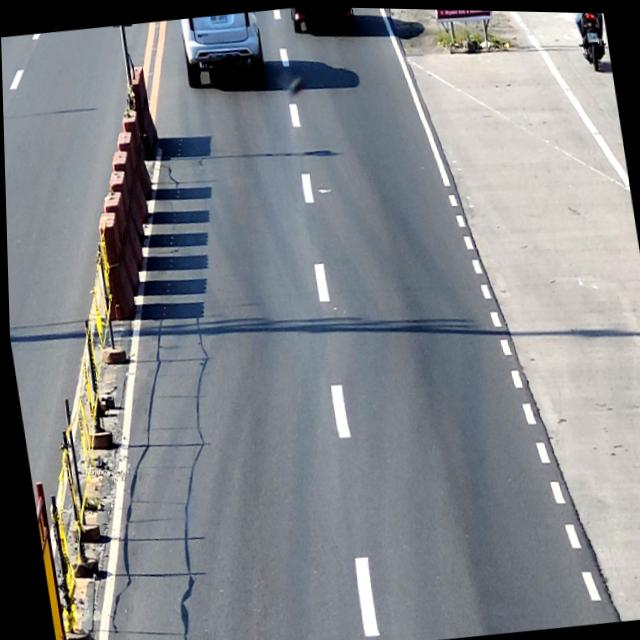Car: (179, 9, 268, 92)
License-Plate: (209, 13, 227, 23)
